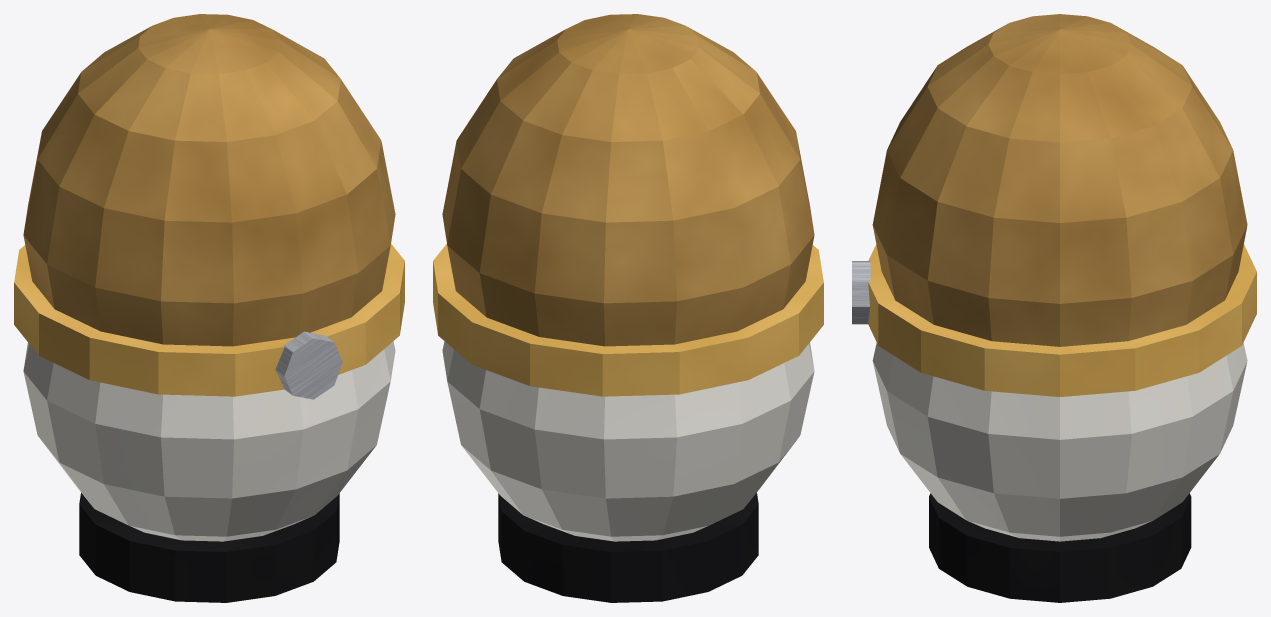
Rendered from mdl_capsula_laton.fbx.
The picture shows the model from 3 angles, left to right: view 1: azimuth 30°, elevation 25°; view 2: azimuth 150°, elevation 25°; view 3: azimuth 270°, elevation 25°; orthographic projection.
Visible parts, largest first — view 1: metal_laton, esmalte_blanco, metal_oro_pulido, esmalte_negro, metal_acero; view 2: metal_laton, esmalte_blanco, metal_oro_pulido, esmalte_negro; view 3: metal_laton, esmalte_blanco, metal_oro_pulido, esmalte_negro, metal_acero.
Boxes of the visible parts, x1,y1,x2,y2 form: metal_laton: (23, 14, 395, 346); esmalte_blanco: (23, 341, 395, 541); metal_oro_pulido: (14, 244, 404, 396); esmalte_negro: (79, 492, 339, 602); metal_acero: (275, 331, 342, 399); metal_laton: (442, 14, 814, 346); esmalte_blanco: (442, 341, 814, 541); metal_oro_pulido: (433, 244, 823, 396); esmalte_negro: (498, 492, 758, 602); metal_laton: (872, 14, 1247, 346); esmalte_blanco: (872, 343, 1247, 541); metal_oro_pulido: (868, 244, 1256, 396); esmalte_negro: (929, 493, 1191, 602); metal_acero: (852, 261, 870, 324).
Bounding box in the file's own units: 210 × 305 × 216.
